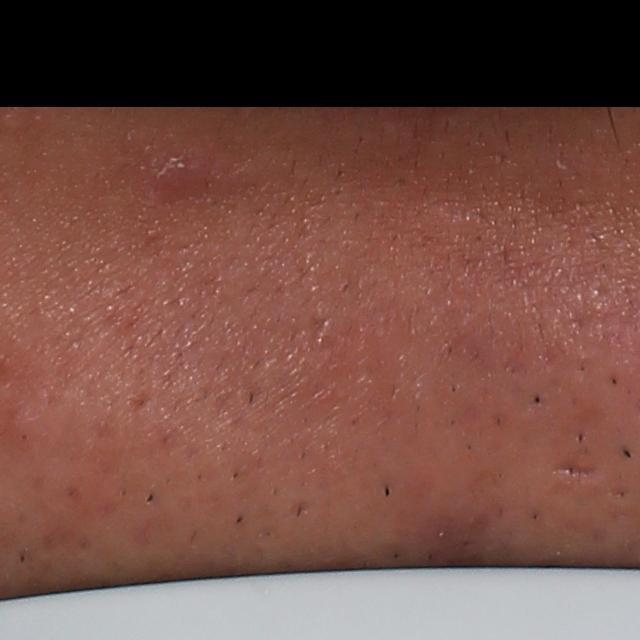atrophic_scar: (546, 462, 603, 482)
papule: (138, 135, 217, 199)
